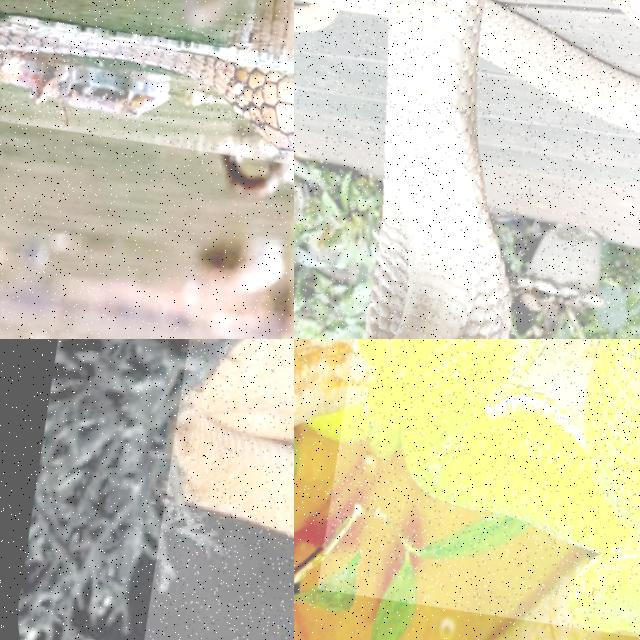Naja kaouthia: (294, 0, 639, 338), (174, 339, 293, 534)
Ophiophagus hannah: (0, 16, 293, 153)
Trimeresurus: (401, 339, 639, 633)
snake: (294, 0, 639, 338), (401, 339, 639, 633), (0, 16, 293, 153), (174, 339, 293, 534)
